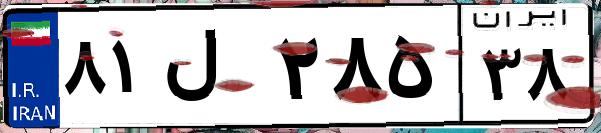1: (110, 28, 158, 98)
2: (270, 28, 330, 110)
3: (475, 38, 525, 113)
5: (385, 28, 445, 110)
8: (330, 28, 385, 110), (57, 26, 110, 100), (525, 38, 570, 115)
ل: (158, 20, 270, 120)
